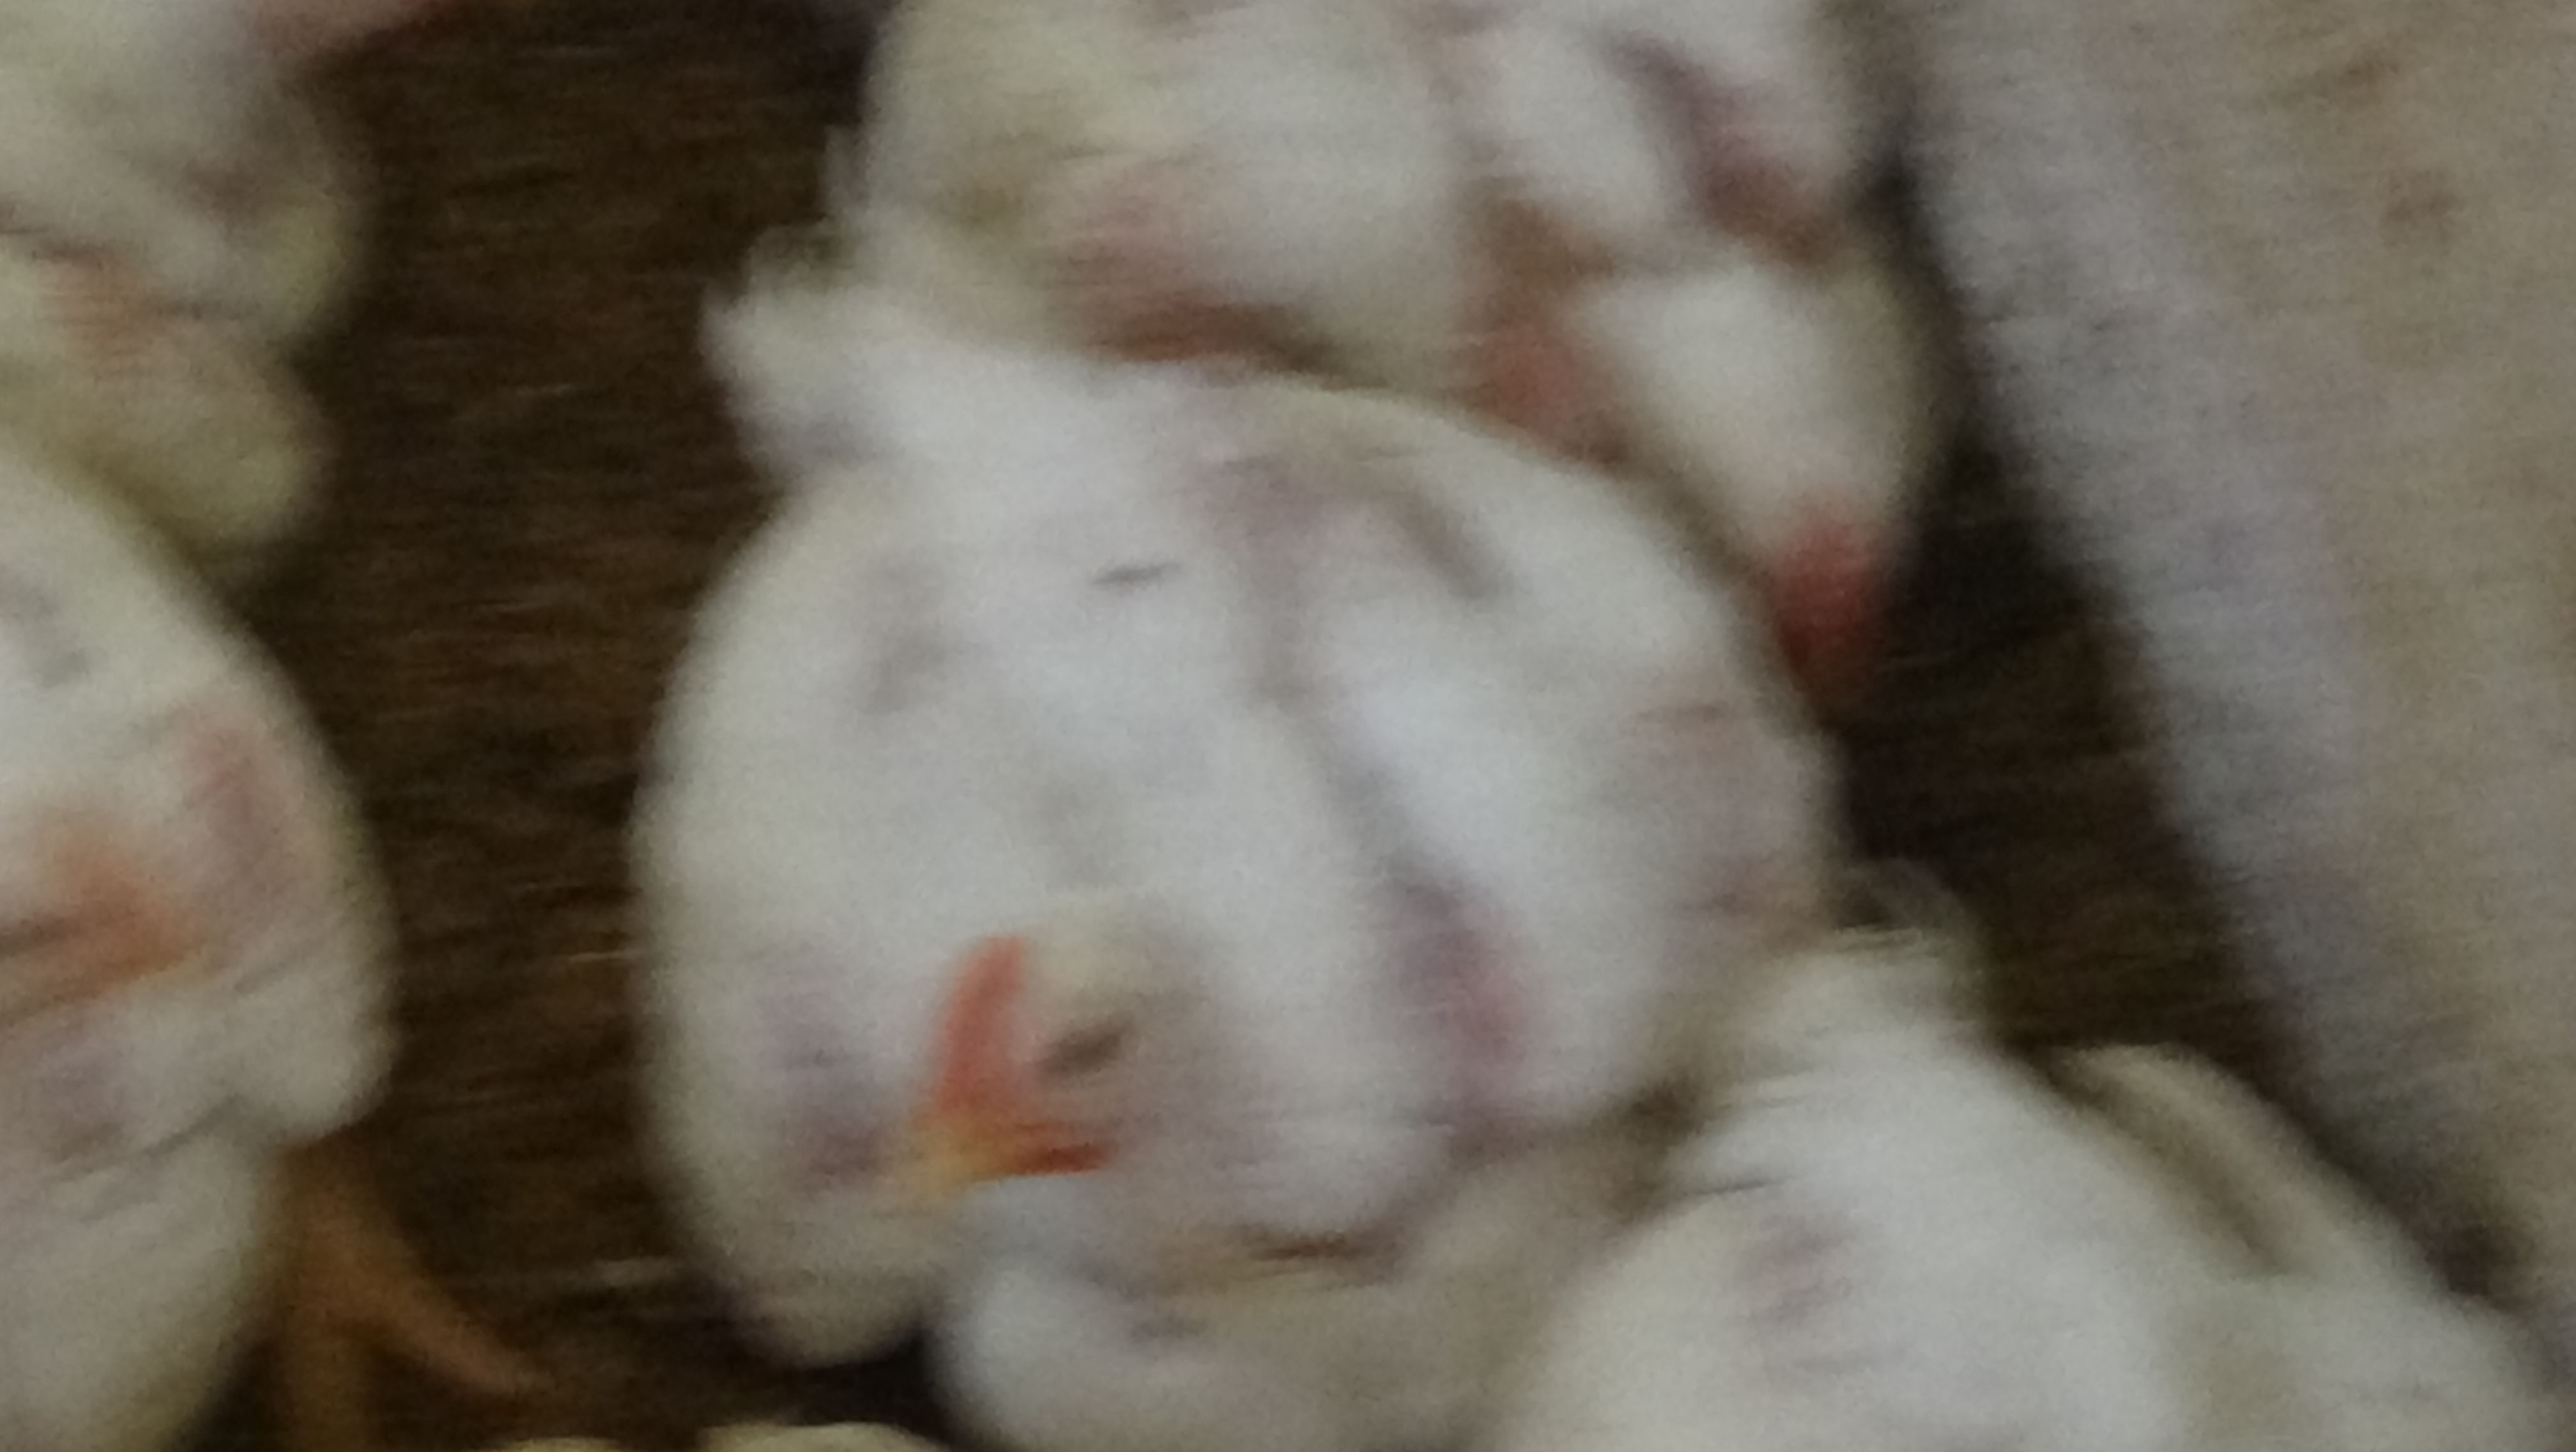Pollos: (559, 182, 1905, 1379), (826, 0, 2038, 708), (0, 429, 524, 1452)
